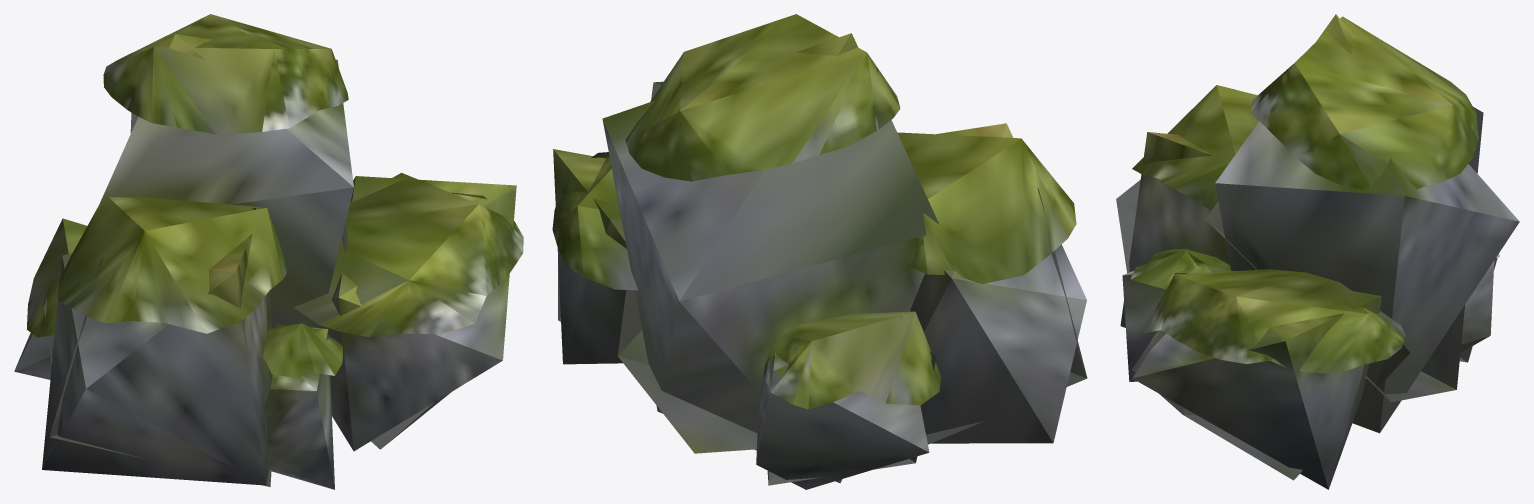
The model's file is rock_big.glb.
3 views of the same model, side by side, from view 1: azimuth 30°, elevation 25°; view 2: azimuth 150°, elevation 25°; view 3: azimuth 270°, elevation 25° (orthographic). The views are drawn at different scales.
Parts seen in each view (by area): view 1: Mesh; view 2: Mesh; view 3: Mesh.
Boxes of the visible parts, x1,y1,x2,y2 form: Mesh: (14,14,523,489); Mesh: (552,14,1087,489); Mesh: (1116,14,1519,489).
Bounding box in the file's own units: 1.03 × 0.8117 × 0.8098.
Materials: 1 (1 with a texture image).
